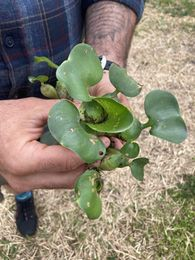water_hyacinth: (31, 43, 188, 221)
